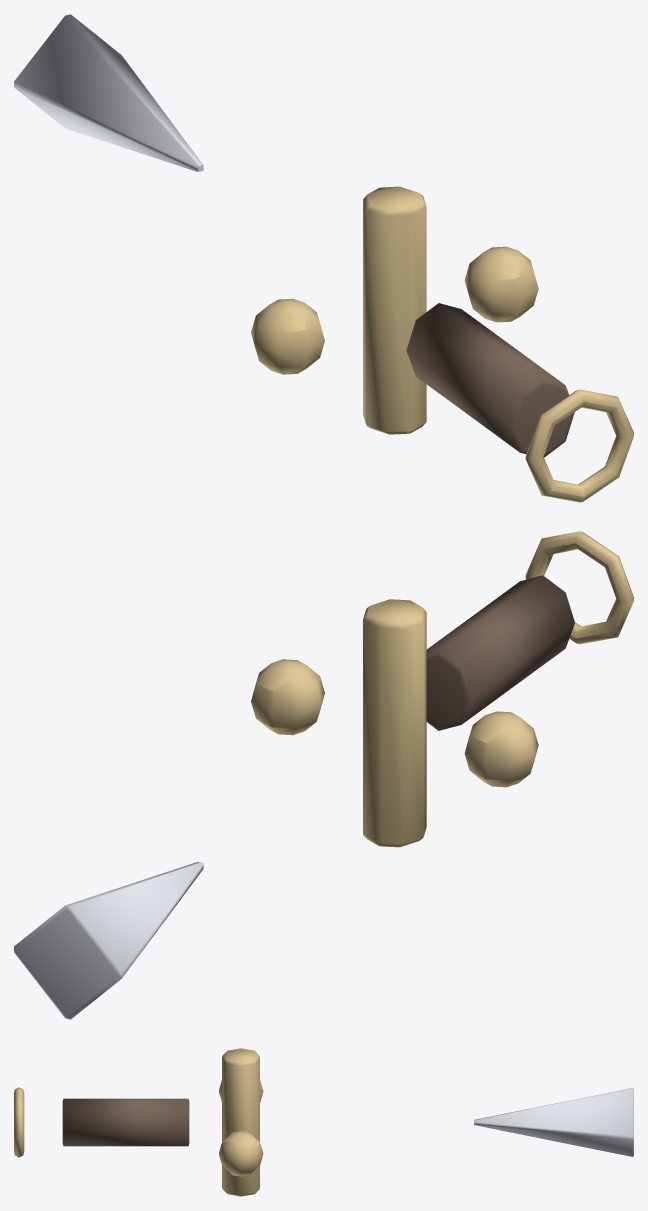
The model's file is weapons_dagger.glb.
3 renders of one model, top to bottom at view 1: azimuth 30°, elevation 25°; view 2: azimuth 150°, elevation 25°; view 3: azimuth 270°, elevation 25°, orthographic. The views are drawn at different scales.
Visible parts, largest first — view 1: weapons_dagger; view 2: weapons_dagger; view 3: weapons_dagger.
Part boxes in pixels (left/top/right/bottom): weapons_dagger: left=14, top=14, right=633, bottom=502; weapons_dagger: left=14, top=531, right=633, bottom=1019; weapons_dagger: left=14, top=1048, right=633, bottom=1196.
Bounding box in the file's own units: 0.118 × 0.09 × 0.3771.
